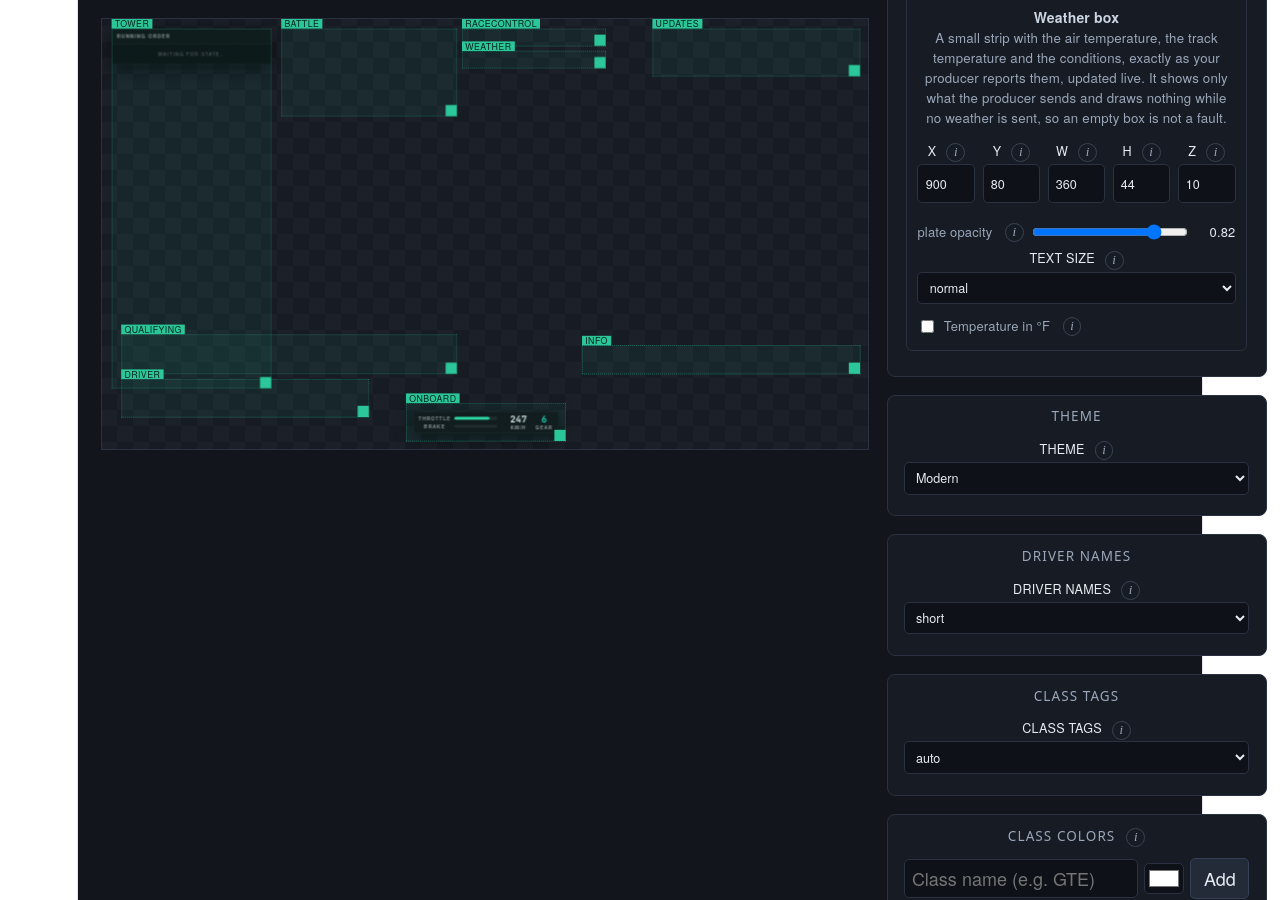
it: config editor: theme preset › explains the control in the UI
(page scrolled)
What coordinates should you click on to do the following:
click the button with test id "help-theme-preset"
I would click on:
 (1104, 450)
Its box is [1094,441,1113,460].
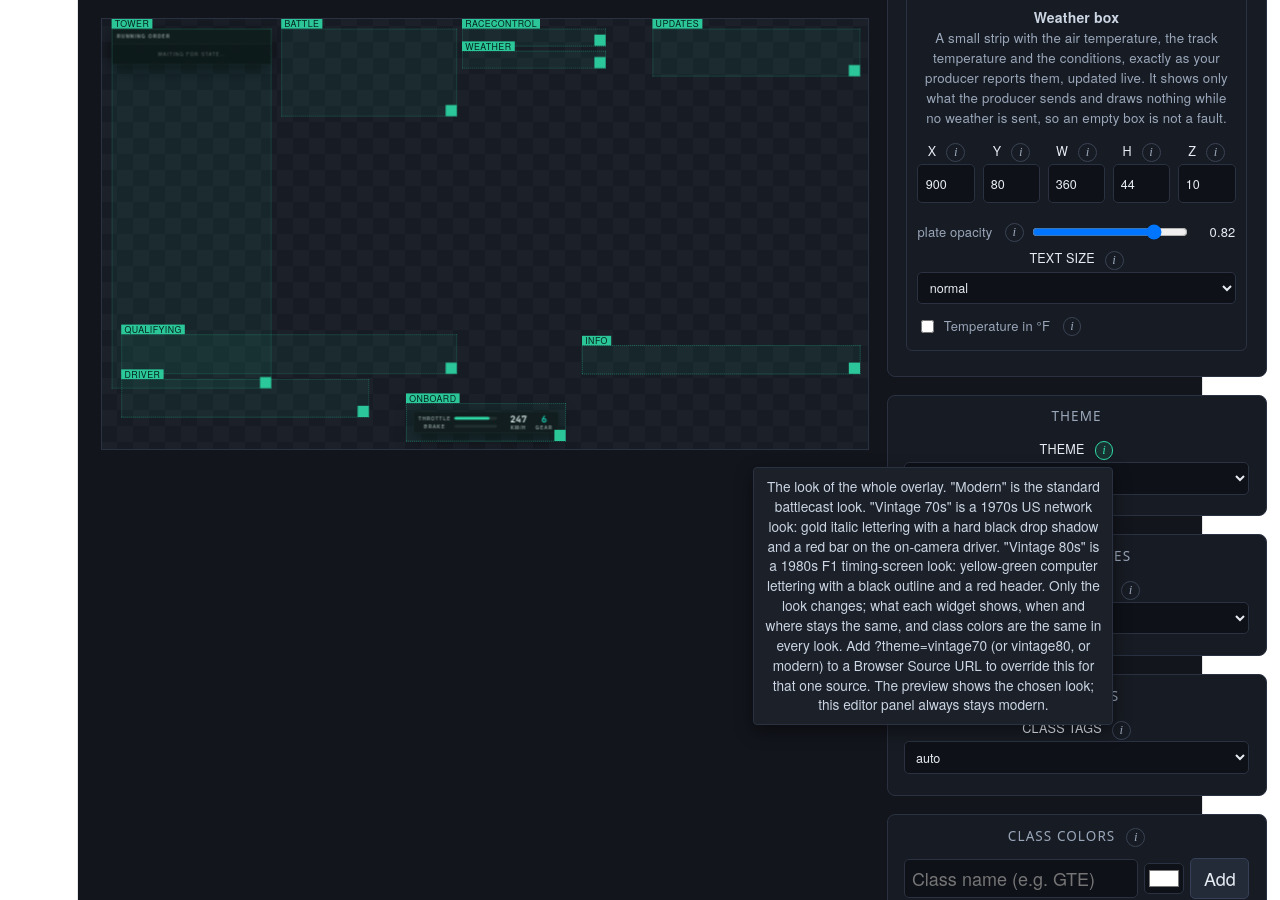
Expected: the tooltip with test id "help-theme-preset-text" is shown, [753,467,1113,725]
